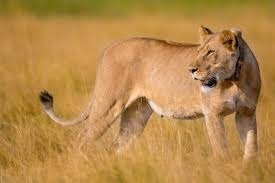lion: (36, 22, 266, 172)
